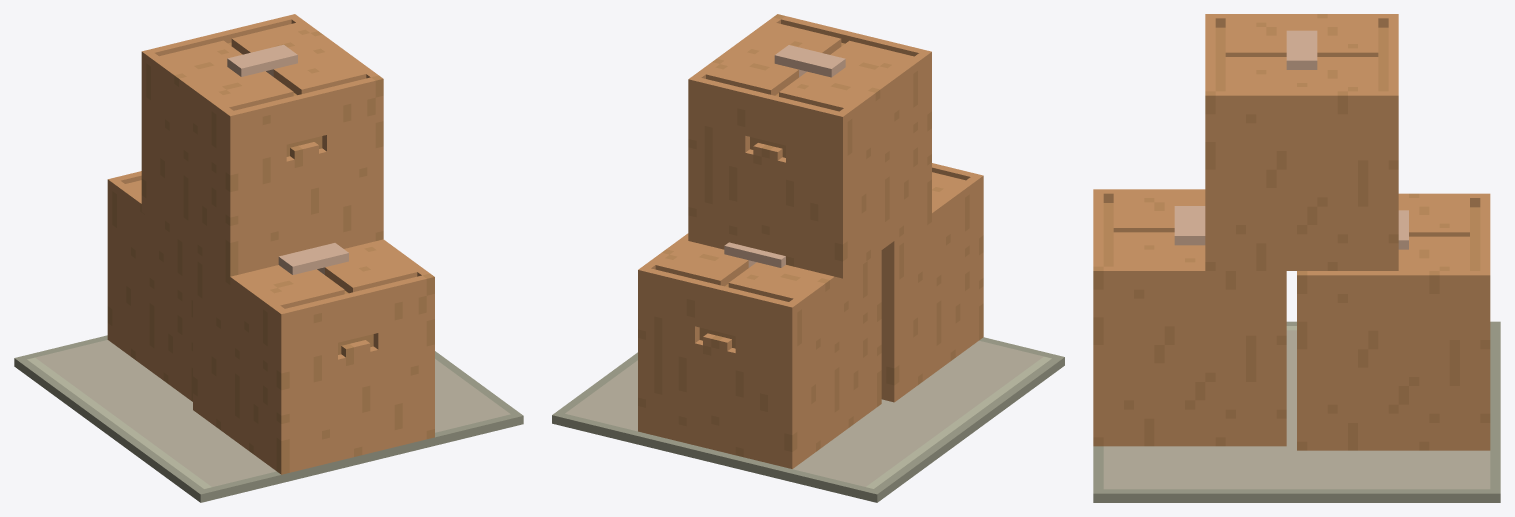
Rendered from Box_Big_2.obj.
3 views of the same model, side by side, from view 1: azimuth 30°, elevation 25°; view 2: azimuth 150°, elevation 25°; view 3: azimuth 270°, elevation 25° (orthographic). The views are drawn at different scales.
Size of the model in its own units: 40 by 40 by 40.
Materials: 1 (1 with a texture image).
